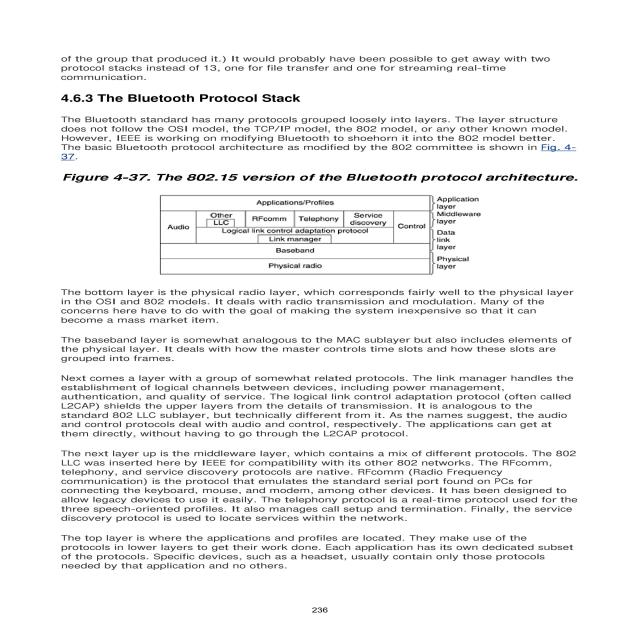diagram: (32, 163, 590, 284)
